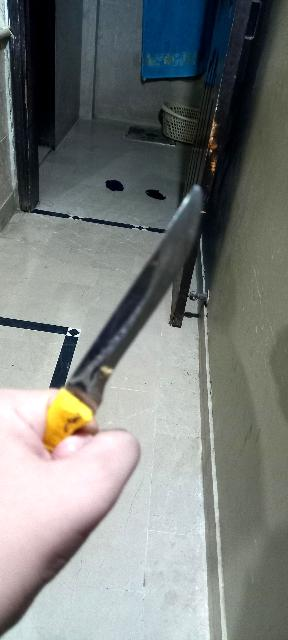long knife: (25, 185, 208, 478)
